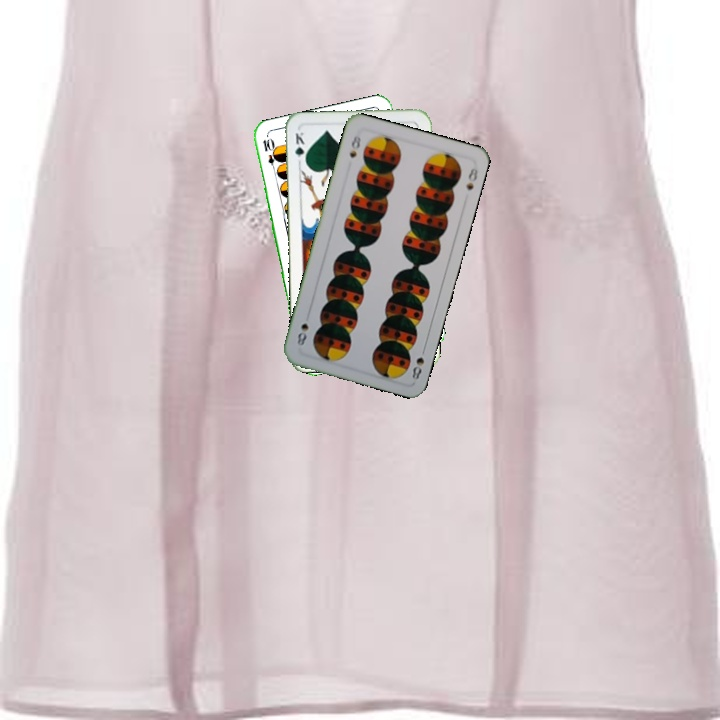E10: (259, 134, 280, 175)
GK: (291, 128, 308, 167)
S8: (408, 343, 428, 383), (345, 131, 363, 160)
